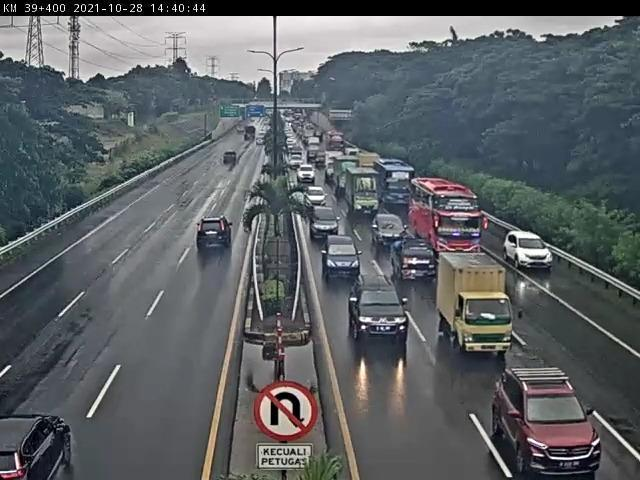bus: (408, 178, 484, 261), (371, 158, 416, 208)
car: (493, 367, 606, 480), (348, 273, 411, 343), (503, 231, 557, 275), (391, 238, 439, 282), (320, 234, 363, 281), (196, 215, 234, 253), (371, 214, 408, 249), (309, 206, 341, 241), (303, 186, 329, 210)
truck: (436, 251, 515, 357), (345, 167, 382, 220)
